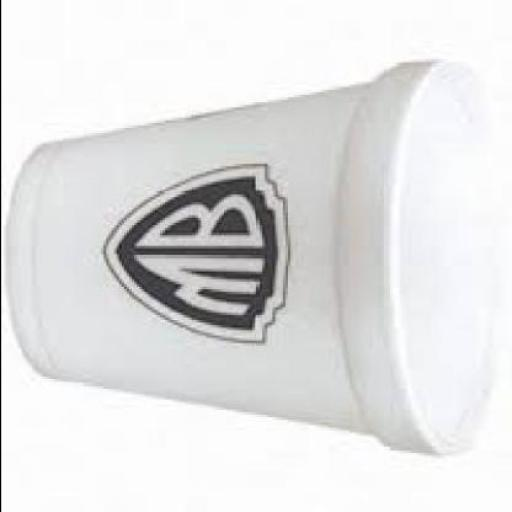paper: (10, 64, 502, 458)
